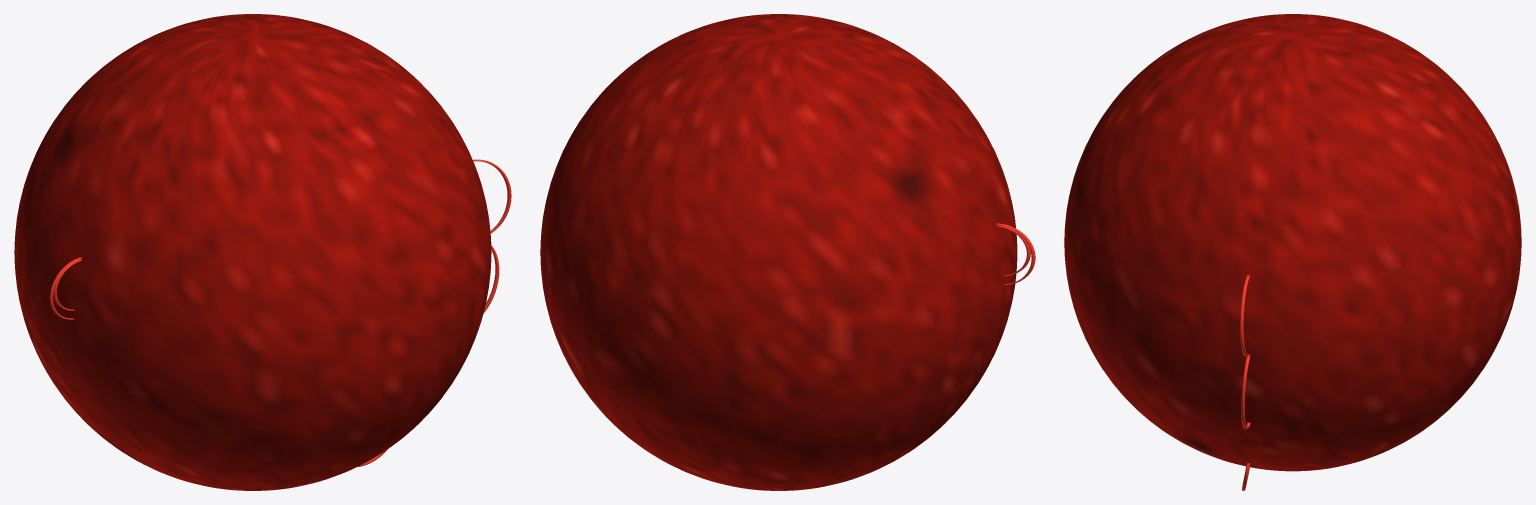
File: Star_47.fbx
3 views of the same model, side by side, from view 1: azimuth 30°, elevation 25°; view 2: azimuth 150°, elevation 25°; view 3: azimuth 270°, elevation 25° (orthographic). The views are drawn at different scales.
Visible parts, largest first — view 1: Star_47; view 2: Star_47; view 3: Star_47.
Boxes of the visible parts, box(x1,y1,x2,y2) form: Star_47: box(14, 14, 511, 490); Star_47: box(540, 14, 1035, 490); Star_47: box(1064, 14, 1521, 490).
Bounding box in the file's own units: 223 × 200 × 200.
